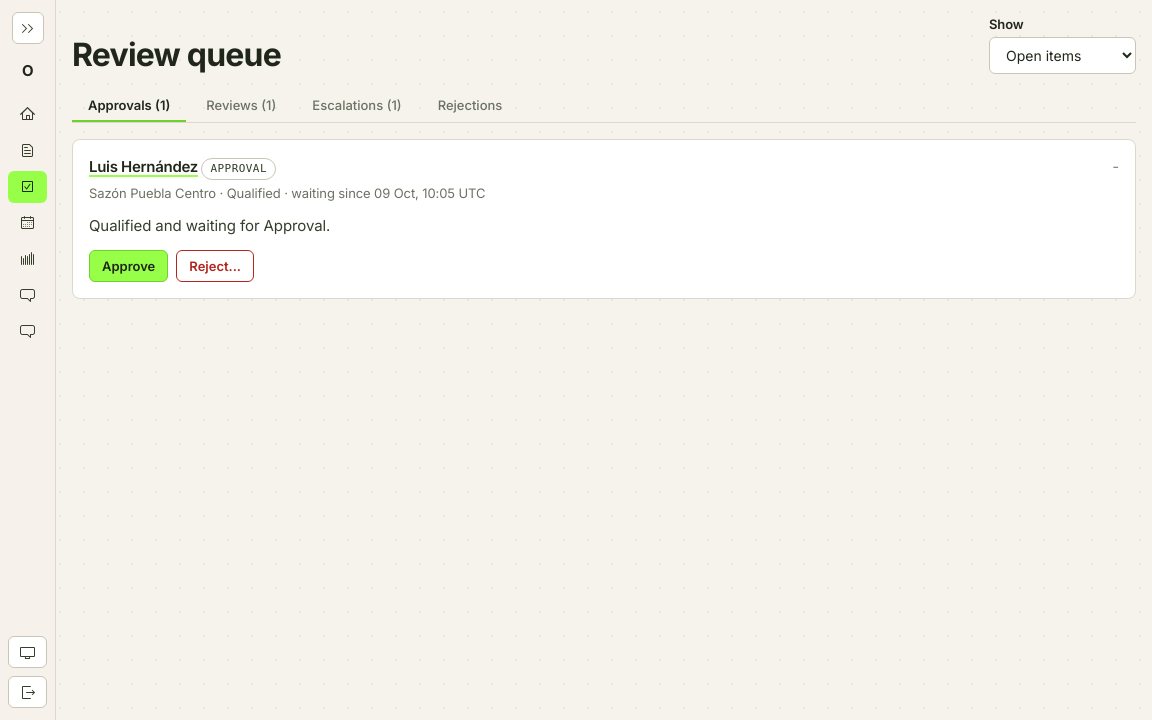
Test: Review queue layout and actions › keeps the tablist, tab and tabpanel roles, with the panel named by its tab
Expected: the tab "Approvals (1)" is shown, x1=72 y1=90 x2=186 y2=122
Expected: the panel named "Approvals" is shown, x1=72 y1=139 x2=1136 y2=299
Click the tab "Rejections" at (470, 106), box x1=422 y1=90 x2=518 y2=122
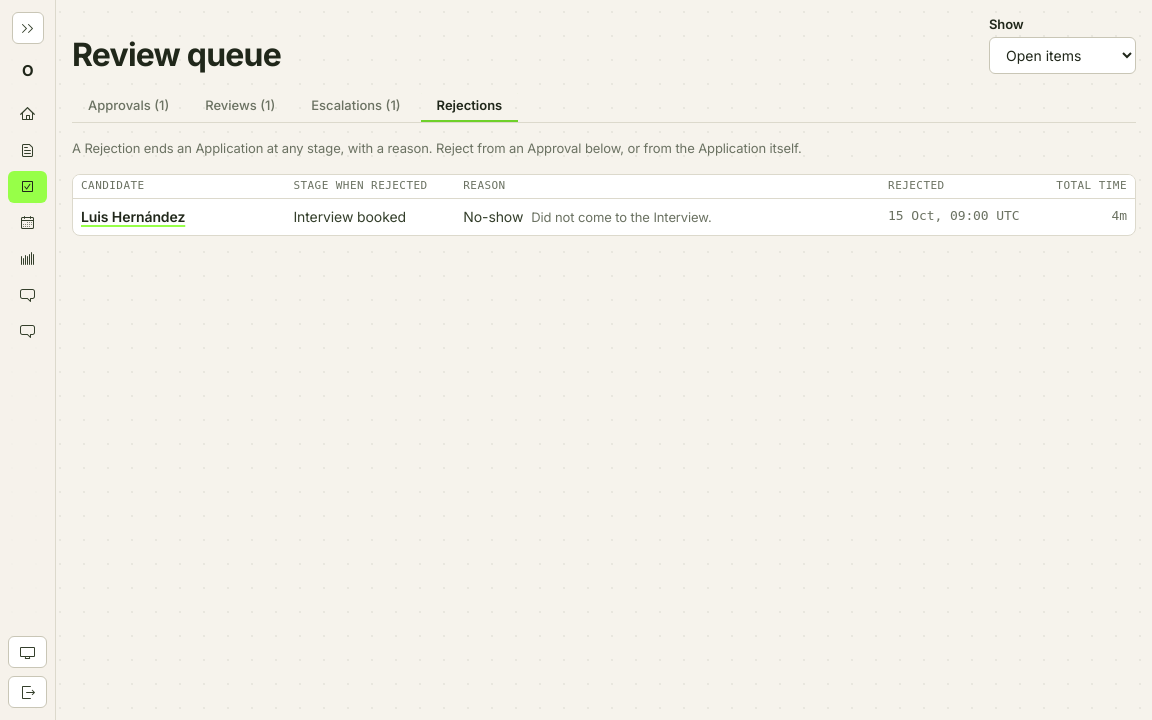
Result: the panel named "Rejections" is shown at x1=72 y1=139 x2=1136 y2=236
